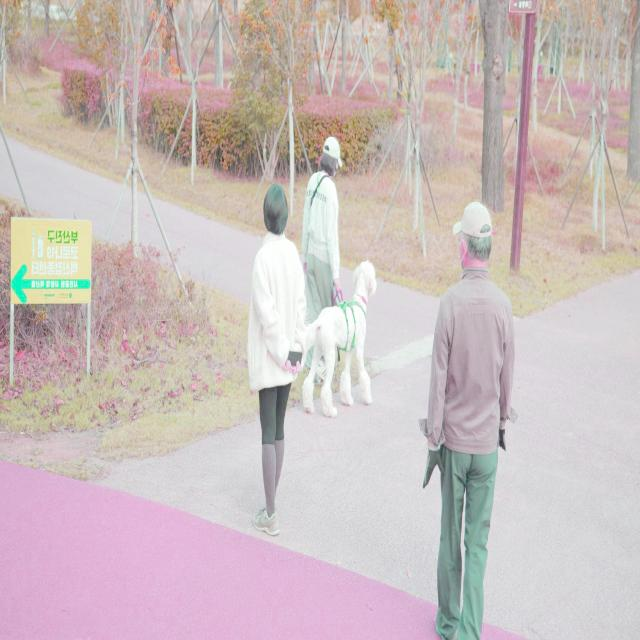Leashed_Dog: (302, 260, 377, 419)
